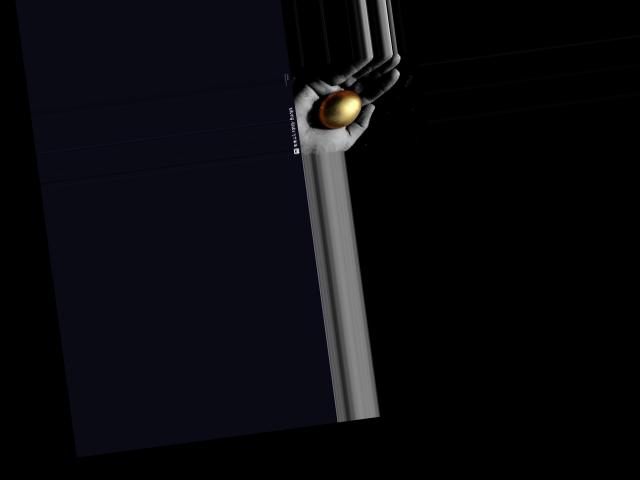egg: (316, 87, 364, 129)
